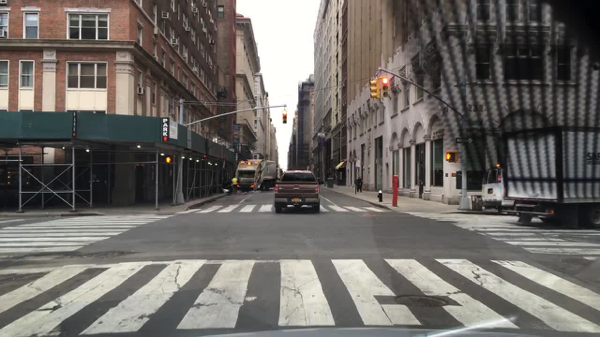bus: (480, 166, 511, 212)
car: (273, 168, 319, 213)
person: (232, 176, 238, 193), (355, 176, 361, 193)
traffic light: (369, 76, 378, 99), (380, 77, 389, 99), (444, 153, 455, 160), (281, 110, 286, 123), (164, 156, 171, 163)
traffic sign: (454, 138, 471, 144), (462, 121, 482, 126)
truck: (501, 126, 599, 228), (236, 159, 279, 191)
